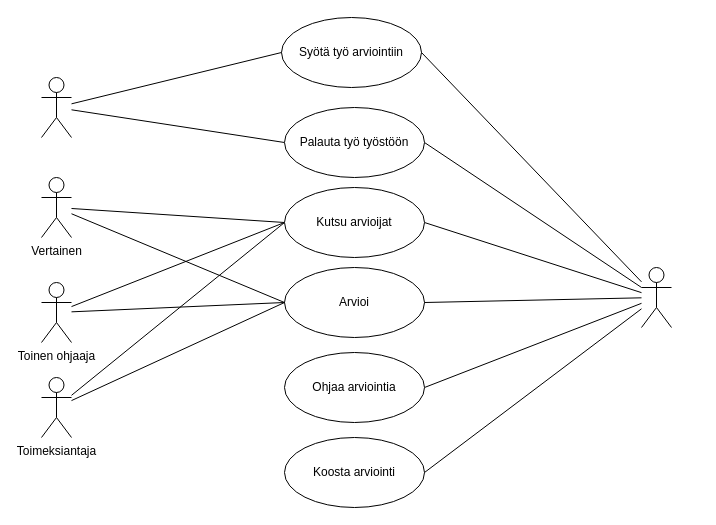
This 716x525 diagram has some shape labels left out. Each missing label, with the box of its shape:
Ohjaajaopettaja: (640, 266, 672, 328)
Opiskelija: (40, 76, 72, 138)
